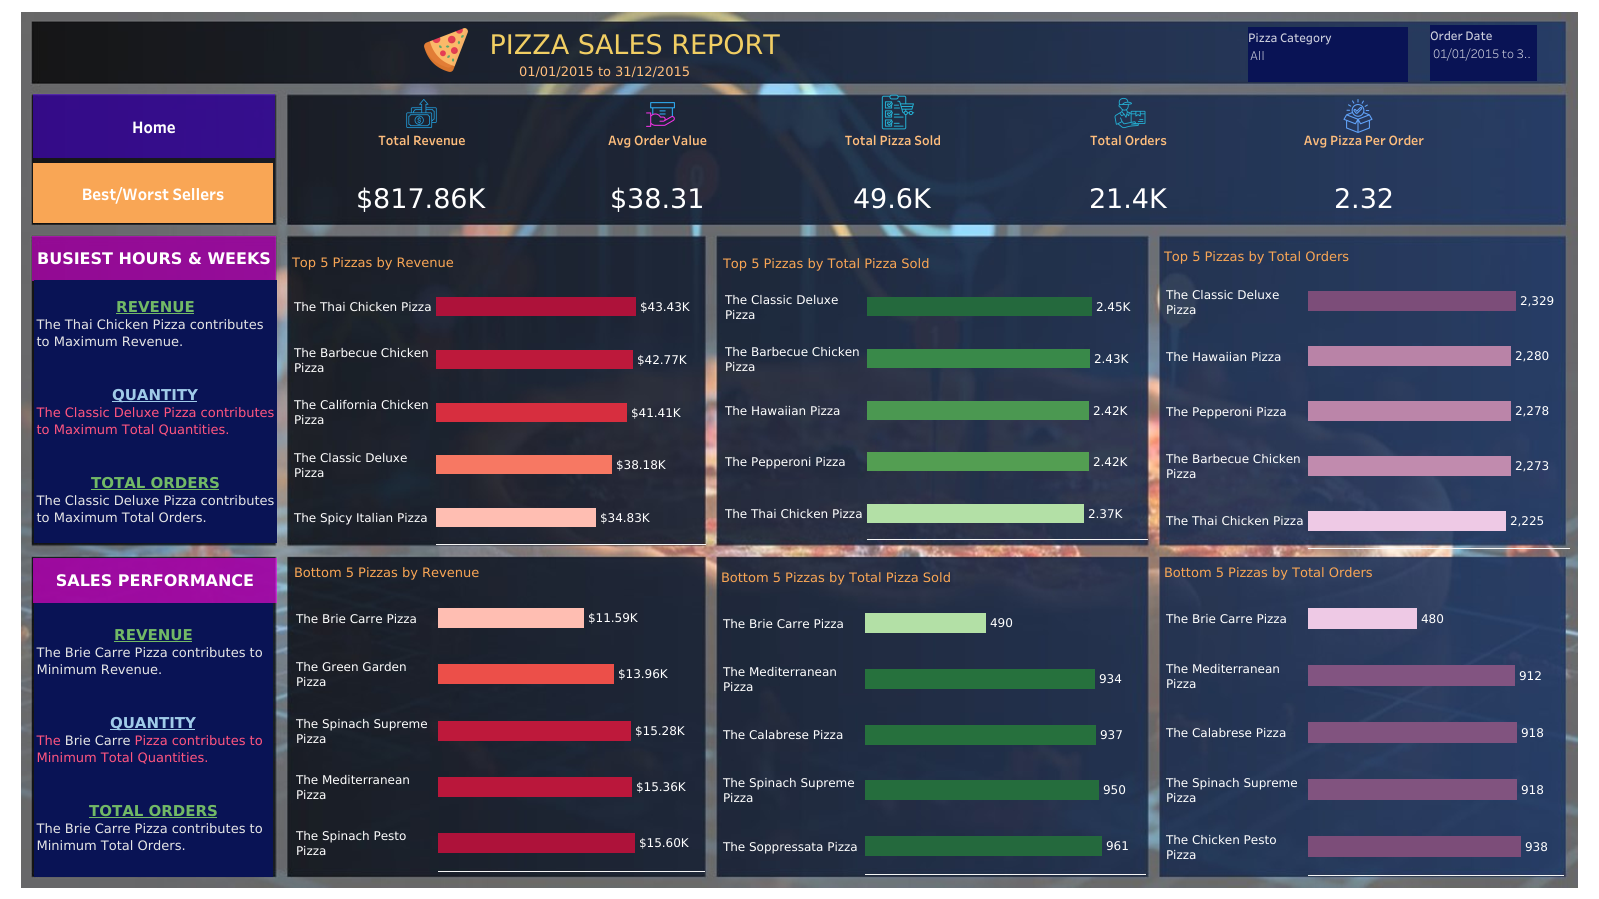

The page's visual inventory and layout, read from the dashboard file:
{"tool":"tableau","page":{"name":"Best/Worst Sellers","canvas":[1600,900],"ordinal":0},"visuals":[{"type":"image","param":"Image/Pizza Tableau 2.jpg","box":[8,8,1584,884]},{"type":"text","box":[487,8,610,73]},{"type":"filter","title":"Date Range","param":"[federated.0a4ugi71rlhu5w17nvi0l07qdpks].[none:order_date:qk]","box":[1430,25,107,56]},{"type":"image","param":"Image/pizza-slice.png","box":[409,27,74,46]},{"type":"filter","title":"Date Range","param":"[federated.0a4ugi71rlhu5w17nvi0l07qdpks].[none:pizza_category:nk]","box":[1248,27,160,55]},{"type":"worksheet","title":"Date Range","mark":"Automatic","box":[364,47,383,71]},{"type":"dashboard-object","box":[33,94,242,64]},{"type":"image","param":"Image/order-delivery.png","box":[874,94,48,36]},{"type":"image","param":"Image/profit-growth.png","box":[392,96,59,35]},{"type":"image","param":"Image/delivery-man.png","box":[1108,97,45,32]},{"type":"image","param":"Image/shipping-box.png","box":[629,98,64,33]},{"type":"worksheet","title":"KPI Banner","mark":"Automatic","box":[304,99,1178,120]},{"type":"image","param":"Image/order (1).png","box":[1330,99,57,34]},{"type":"dashboard-object","box":[33,163,240,60]},{"type":"text","box":[32,236,244,45]},{"type":"worksheet","title":"Top 5 Pizzas by Total Orders","mark":"Automatic","rows":["pizza_name"],"cols":["Calculation_1532912740879310850"],"box":[1160,242,409,306]},{"type":"worksheet","title":"Top 5 Pizzas by Revenue","mark":"Automatic","rows":["pizza_name"],"cols":["Calculation_1532912740877619201"],"box":[288,248,417,296]},{"type":"worksheet","title":"Top 5 Pizzas by Total Pizza Sold","mark":"Automatic","rows":["pizza_name"],"cols":["Calculation_1532912740881035268"],"box":[719,249,428,290]},{"type":"text","box":[34,280,243,263]},{"type":"text","box":[33,558,244,45]},{"type":"worksheet","title":"Bottom 5 Pizzas by Revenue","mark":"Automatic","rows":["pizza_name"],"cols":["Calculation_1532912740877619201"],"box":[290,558,414,313]},{"type":"worksheet","title":"Bottom 5 Pizzas by Total Orders","mark":"Automatic","rows":["pizza_name"],"cols":["Calculation_1532912740879310850"],"box":[1160,558,403,317]},{"type":"worksheet","title":"Bottom 5 Pizzas by Total Pizza Sold","mark":"Automatic","rows":["pizza_name"],"cols":["Calculation_1532912740881035268"],"box":[717,563,428,311]},{"type":"text","box":[34,603,239,274]}]}

Visuals, with their boxes in screenshot pixels (x1, y1, x2, y2), scaled from the page's 1600x900 canvas onto the 1599x899 screenshot:
image: rect(8, 8, 1591, 891)
text: rect(487, 8, 1096, 81)
"Date Range" filter: rect(1429, 25, 1536, 81)
image: rect(409, 27, 483, 73)
"Date Range" filter: rect(1247, 27, 1407, 82)
"Date Range" worksheet: rect(364, 47, 747, 118)
dashboard-object: rect(33, 94, 275, 158)
image: rect(873, 94, 921, 130)
image: rect(392, 96, 451, 131)
image: rect(1107, 97, 1152, 129)
image: rect(629, 98, 693, 131)
"KPI Banner" worksheet: rect(304, 99, 1481, 219)
image: rect(1329, 99, 1386, 133)
dashboard-object: rect(33, 163, 273, 223)
text: rect(32, 236, 276, 281)
"Top 5 Pizzas by Total Orders" worksheet: rect(1159, 242, 1568, 547)
"Top 5 Pizzas by Revenue" worksheet: rect(288, 248, 705, 543)
"Top 5 Pizzas by Total Pizza Sold" worksheet: rect(719, 249, 1146, 538)
text: rect(34, 280, 277, 542)
text: rect(33, 557, 277, 602)
"Bottom 5 Pizzas by Revenue" worksheet: rect(290, 557, 704, 870)
"Bottom 5 Pizzas by Total Orders" worksheet: rect(1159, 557, 1562, 874)
"Bottom 5 Pizzas by Total Pizza Sold" worksheet: rect(717, 562, 1144, 873)
text: rect(34, 602, 273, 876)
